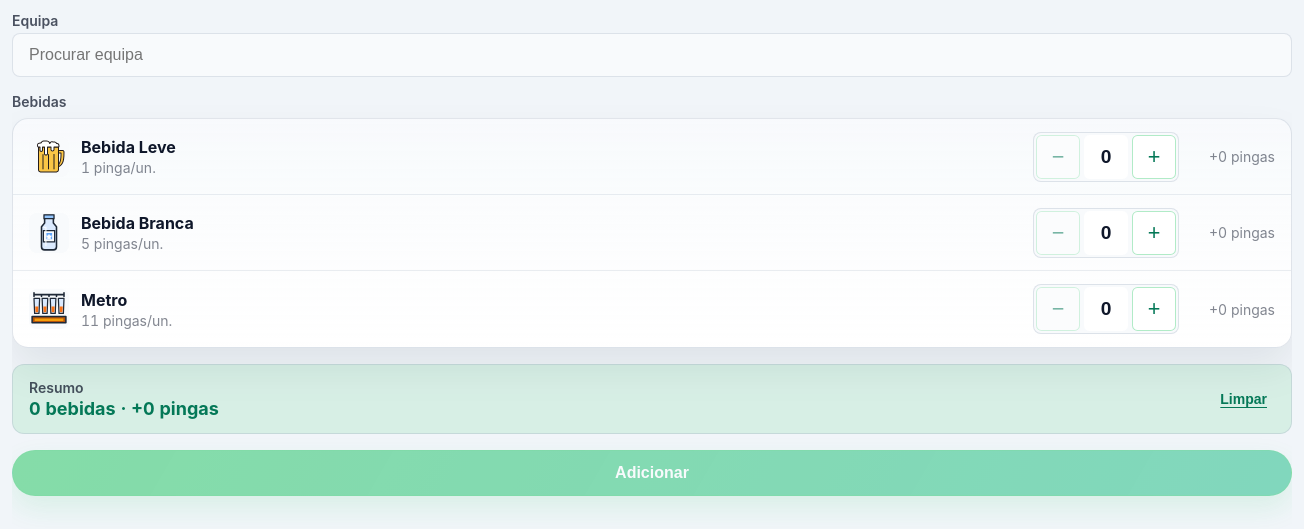
AddPingasPanel drinks workflow › uses singular Portuguese wording for one drink and one pinga
Click the button named "Aumentar quantidade de Bebida Leve".
click(1154, 156)  # box [1132,134,1176,178]
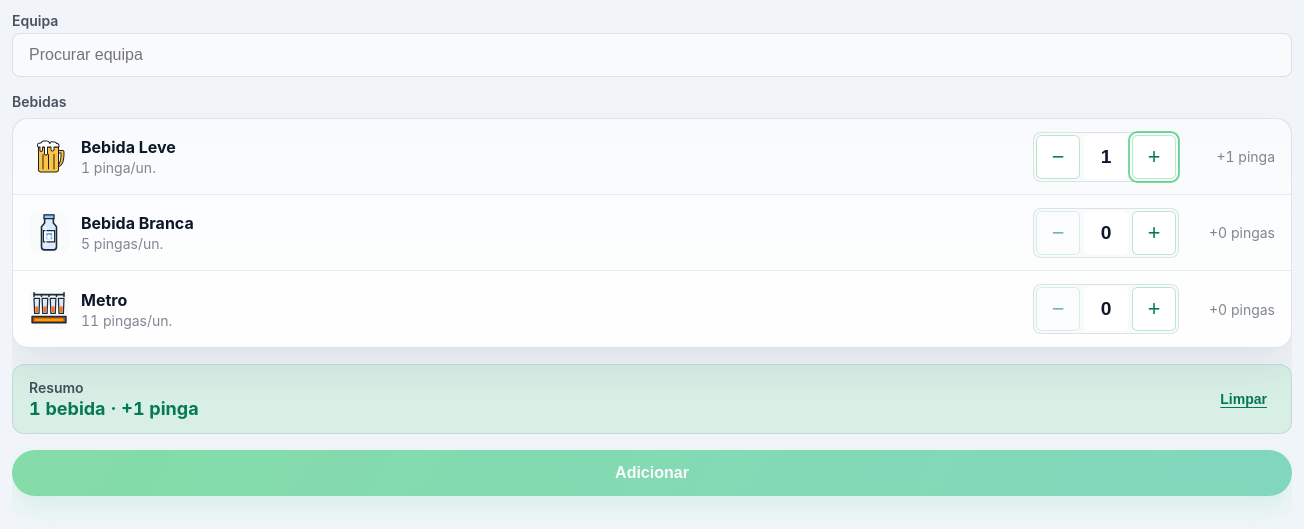
Expected: the text "1 bebida · +1 pinga" is shown, [29,398,199,419]
Expected: the text "+1 pinga" is shown, [1216,148,1275,165]
